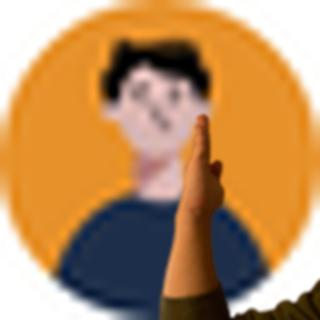RIGHT: (170, 109, 232, 222)
